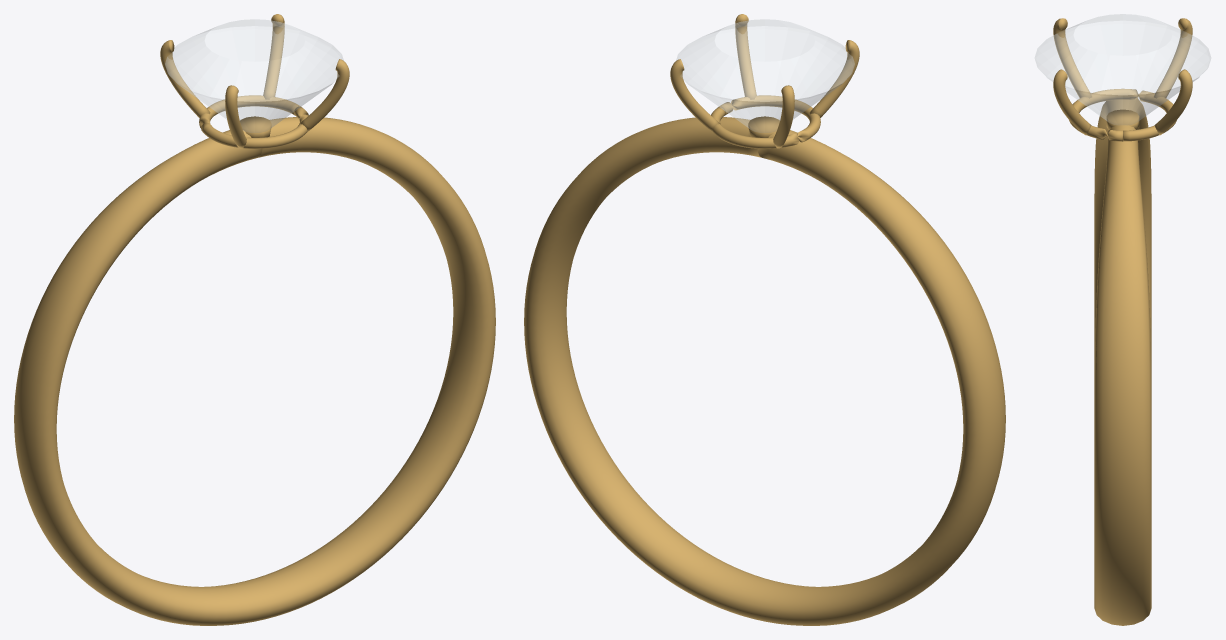
Rendered from bands-tapered.glb.
3 renders of one model, left to right at view 1: azimuth 30°, elevation 25°; view 2: azimuth 150°, elevation 25°; view 3: azimuth 270°, elevation 25°, orthographic.
Parts seen in each view (by area): view 1: Band, Gem, Lower gallery, Prong.001, Prong, Prong.003, Prong.002; view 2: Band, Gem, Lower gallery, Prong.002, Prong.003, Prong, Prong.001; view 3: Band, Gem, Lower gallery, Prong.001, Prong.002, Prong, Prong.003, Head stem.
Part boxes in pixels (bbox=[...]): Band: bbox=[14, 117, 495, 625]; Gem: bbox=[165, 19, 343, 132]; Lower gallery: bbox=[199, 95, 308, 148]; Prong.001: bbox=[160, 40, 210, 117]; Prong: bbox=[263, 14, 284, 99]; Prong.003: bbox=[299, 59, 349, 131]; Prong.002: bbox=[225, 85, 246, 148]; Band: bbox=[524, 117, 1005, 625]; Gem: bbox=[676, 19, 854, 132]; Lower gallery: bbox=[711, 95, 820, 148]; Prong.002: bbox=[809, 40, 859, 117]; Prong.003: bbox=[735, 14, 756, 99]; Prong: bbox=[670, 59, 720, 131]; Prong.001: bbox=[773, 85, 794, 148]; Band: bbox=[1094, 98, 1151, 625]; Gem: bbox=[1035, 14, 1210, 124]; Lower gallery: bbox=[1069, 88, 1176, 141]; Prong.001: bbox=[1154, 18, 1192, 98]; Prong.002: bbox=[1053, 18, 1091, 98]; Prong: bbox=[1154, 69, 1192, 135]; Prong.003: bbox=[1053, 69, 1091, 135]; Head stem: bbox=[1106, 109, 1139, 130].
Size of the model in its own units: 19.6 by 22.94 by 6.5.
